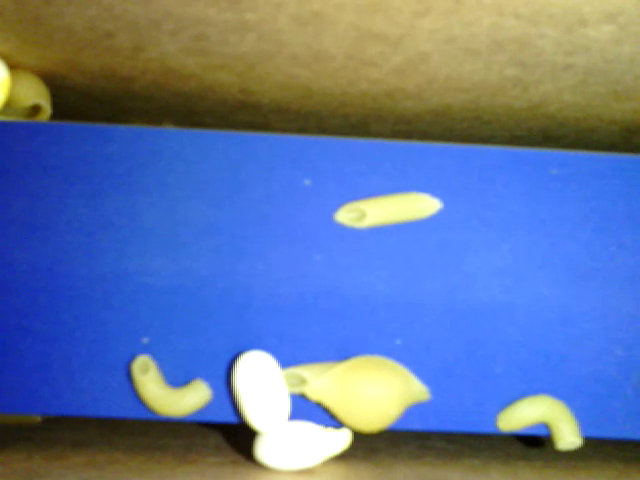penne: (333, 188, 446, 228), (279, 360, 356, 394)
shell: (294, 351, 432, 433), (128, 350, 216, 419), (496, 390, 583, 451), (1, 63, 55, 125)
